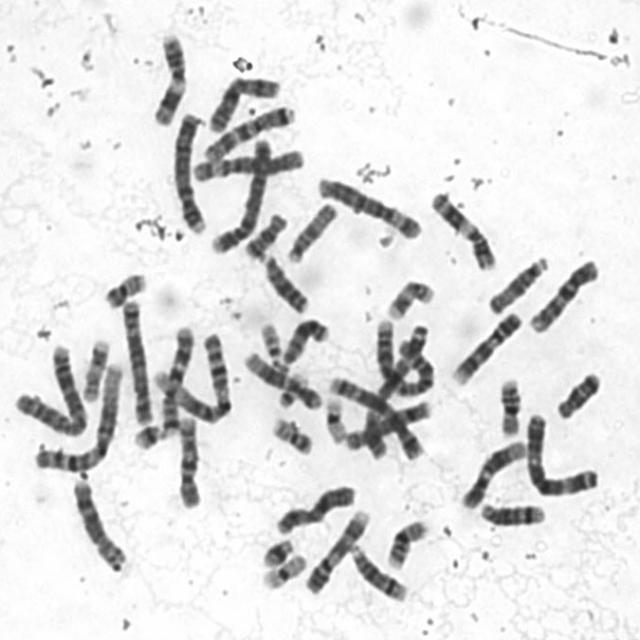A1: (29, 356, 125, 476), (150, 327, 234, 427)
A2: (8, 338, 89, 437), (371, 312, 437, 398)
A3: (358, 320, 432, 463), (521, 406, 601, 498)
B4: (206, 130, 274, 256), (168, 107, 210, 235)
B5: (323, 369, 427, 462), (118, 293, 154, 426)
C10: (525, 253, 603, 335), (172, 409, 204, 511)
C11: (426, 185, 500, 272), (147, 27, 189, 128)
C12: (457, 433, 530, 511), (239, 346, 324, 410)
C6: (312, 169, 424, 241), (186, 144, 306, 184)
C7: (199, 100, 298, 163), (158, 318, 198, 436)
C8: (67, 472, 130, 573), (340, 394, 436, 452)
C9: (302, 504, 374, 596), (448, 306, 524, 387)
D13: (257, 248, 311, 315), (276, 311, 332, 367)
D14: (346, 538, 410, 602), (476, 497, 548, 528)
D15: (483, 250, 552, 316), (282, 197, 340, 264)
E16: (382, 514, 432, 571), (495, 372, 524, 438)
E17: (382, 274, 437, 322), (78, 333, 112, 404)
E18: (552, 365, 604, 421), (240, 207, 290, 260)
F19: (256, 548, 309, 591), (319, 390, 349, 444)
F20: (266, 410, 316, 457), (99, 266, 149, 310)
G21: (257, 532, 296, 568), (129, 418, 169, 452)
G22: (275, 368, 308, 410), (256, 315, 284, 361)
X: (272, 478, 360, 536), (204, 70, 281, 134)
